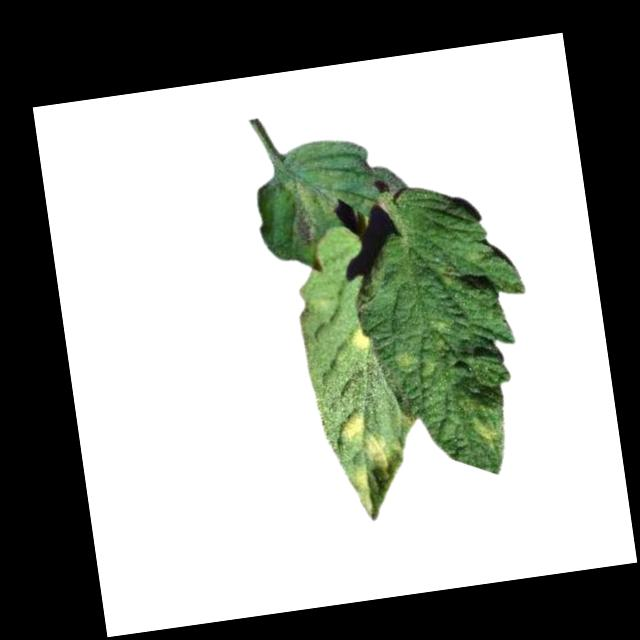Leaf_Mold: (335, 404, 399, 525), (283, 172, 336, 247), (472, 413, 503, 441), (350, 323, 375, 352), (397, 349, 421, 368)
